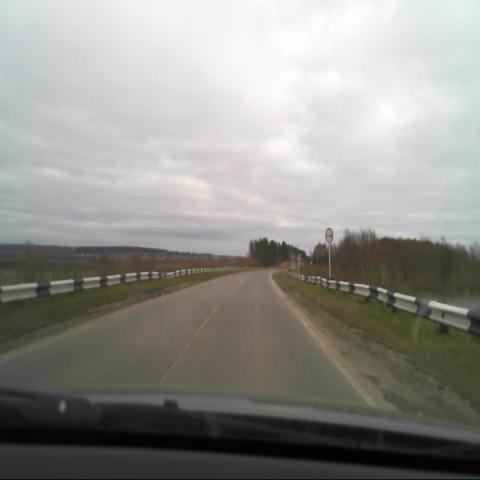3_20: (325, 227, 334, 244)
